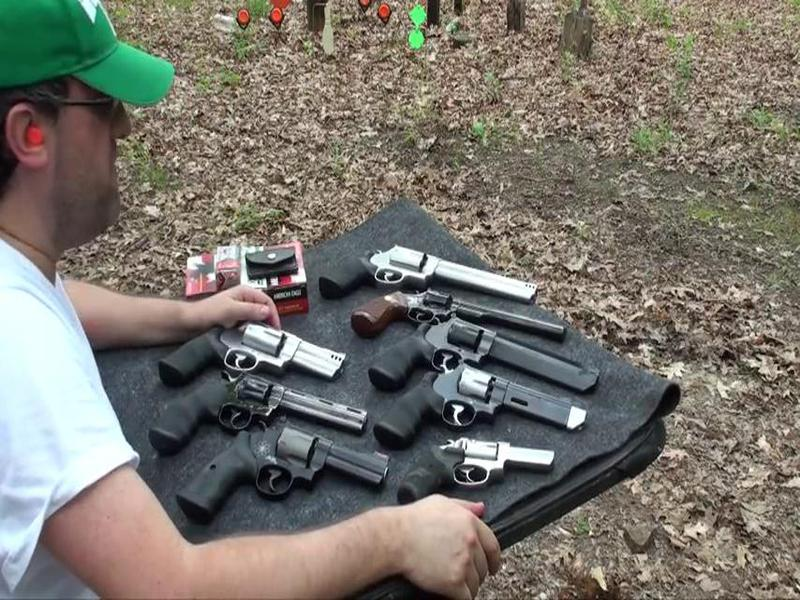Revolver: (150, 298, 357, 394)
